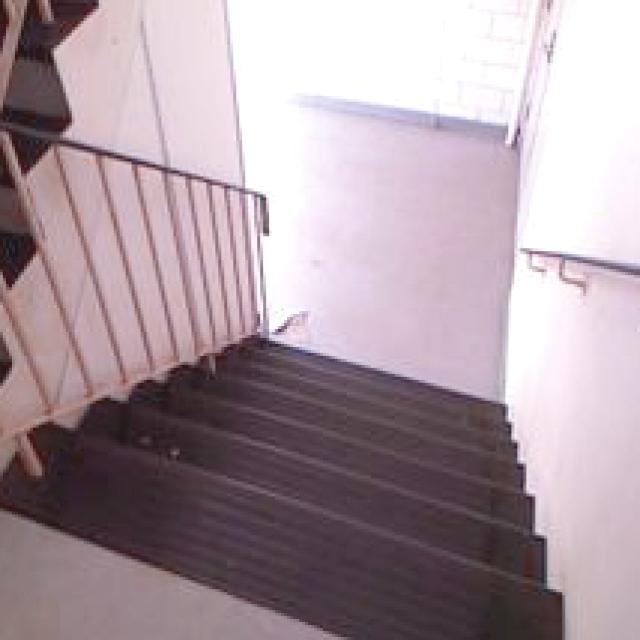downstair: (46, 363, 527, 608)
